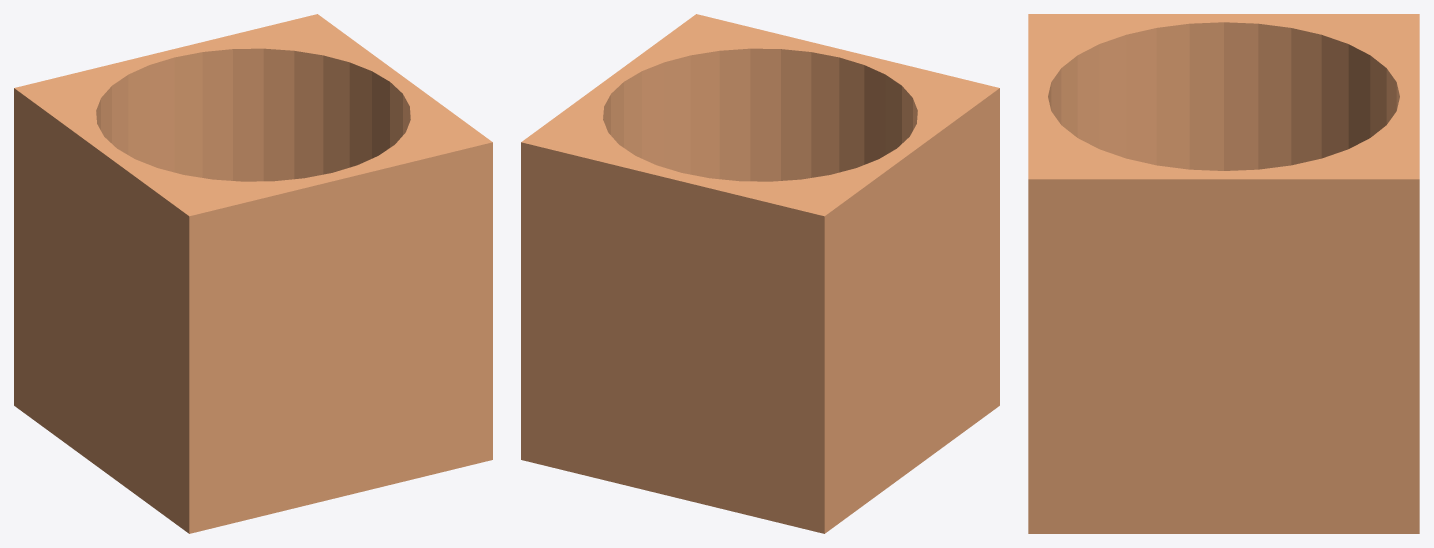
Rendered from Ground_008.fbx.
3 renders of one model, left to right at view 1: azimuth 30°, elevation 25°; view 2: azimuth 150°, elevation 25°; view 3: azimuth 270°, elevation 25°, orthographic. The views are drawn at different scales.
Parts seen in each view (by area): view 1: Ground.008; view 2: Ground.008; view 3: Ground.008.
Boxes of the visible parts, x1,y1,x2,y2 form: Ground.008: (14, 14, 492, 533); Ground.008: (521, 14, 999, 533); Ground.008: (1028, 14, 1419, 533).
Size of the model in its own units: 100 by 100 by 100.
